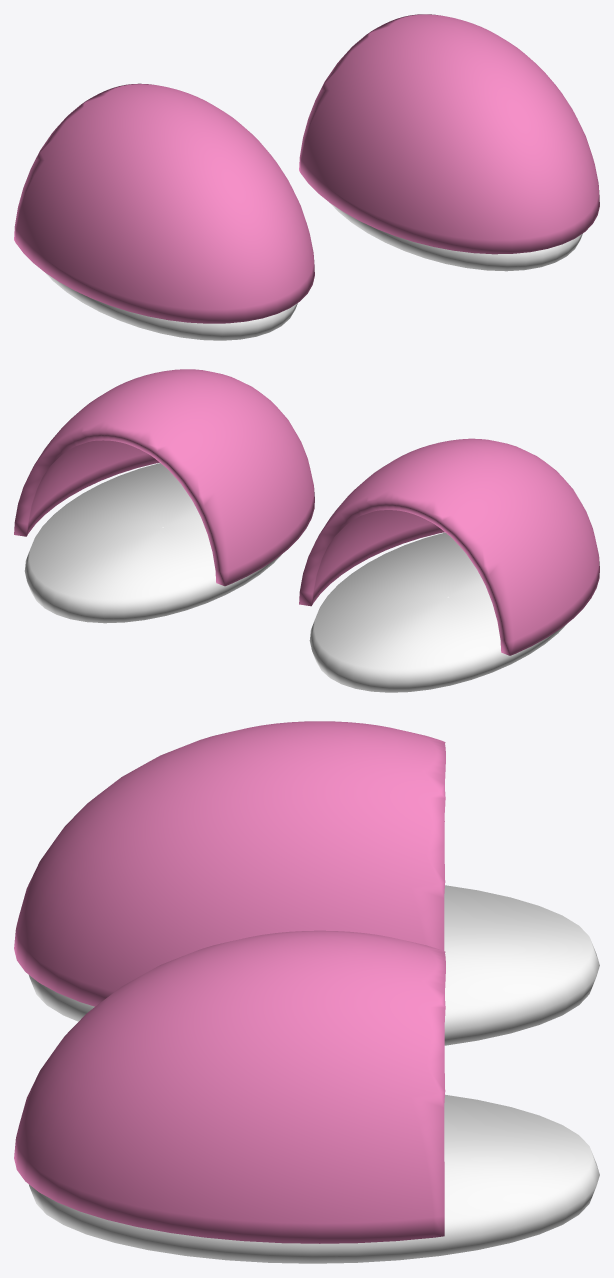
File: slides3.fbx
The picture shows the model from 3 angles, top to bottom: view 1: azimuth 30°, elevation 25°; view 2: azimuth 150°, elevation 25°; view 3: azimuth 270°, elevation 25°; orthographic projection. The views are drawn at different scales.
Visible parts, largest first — view 1: slides3; view 2: slides3; view 3: slides3.
Boxes of the visible parts, x1=… form: slides3: x1=14, y1=14, x2=599, y2=340; slides3: x1=14, y1=369, x2=599, y2=692; slides3: x1=14, y1=721, x2=599, y2=1263.
Bounding box in the file's own units: 0.6413 × 0.194 × 0.4184.
